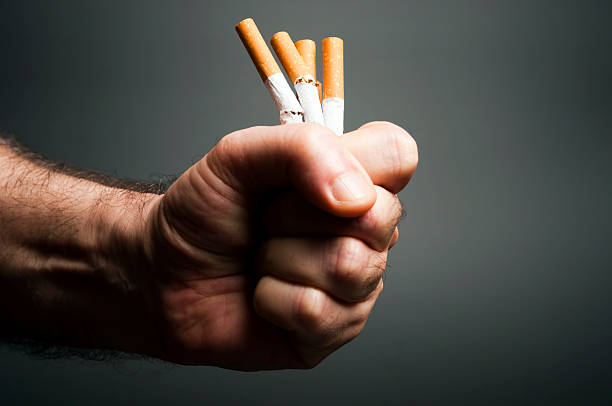cigarette: (233, 17, 305, 138), (269, 29, 325, 128), (322, 35, 345, 137), (295, 37, 317, 80)
